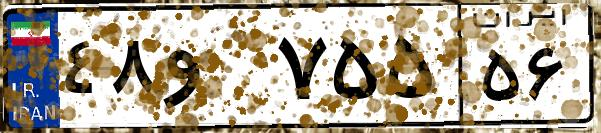4: (57, 26, 110, 100)
5: (385, 28, 445, 110), (330, 28, 385, 110), (475, 38, 525, 113)
6: (525, 38, 570, 115)
7: (270, 28, 330, 110)
8: (110, 28, 158, 98)
و: (158, 20, 270, 120)
